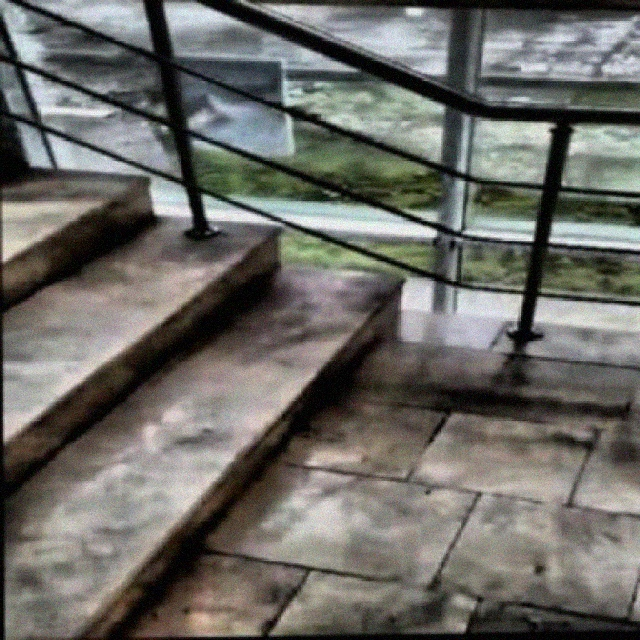stair: (1, 90, 454, 639)
